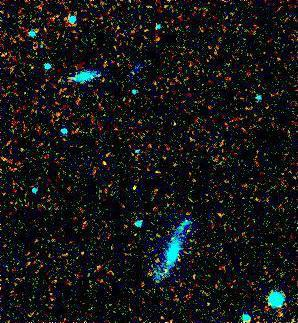star: (86, 150, 116, 180)
